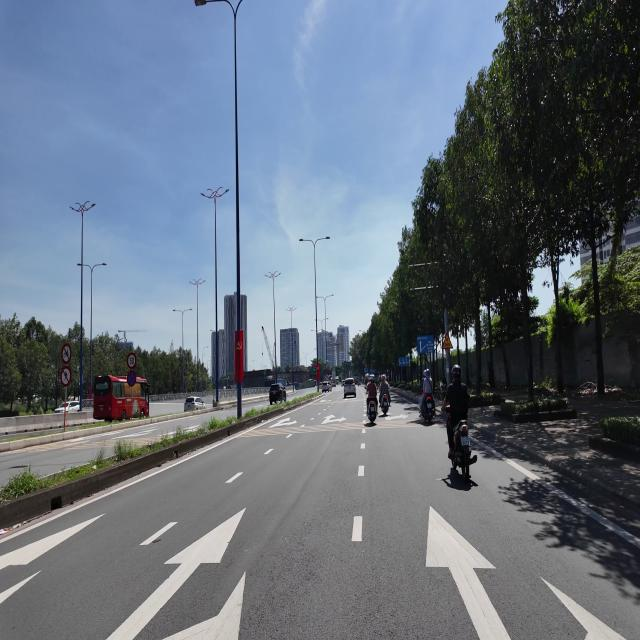car: (269, 383, 286, 405), (184, 397, 206, 411), (344, 378, 356, 398), (322, 381, 331, 392)
motorcycle: (451, 421, 477, 481), (422, 394, 434, 424), (367, 398, 377, 424), (380, 394, 389, 415)
